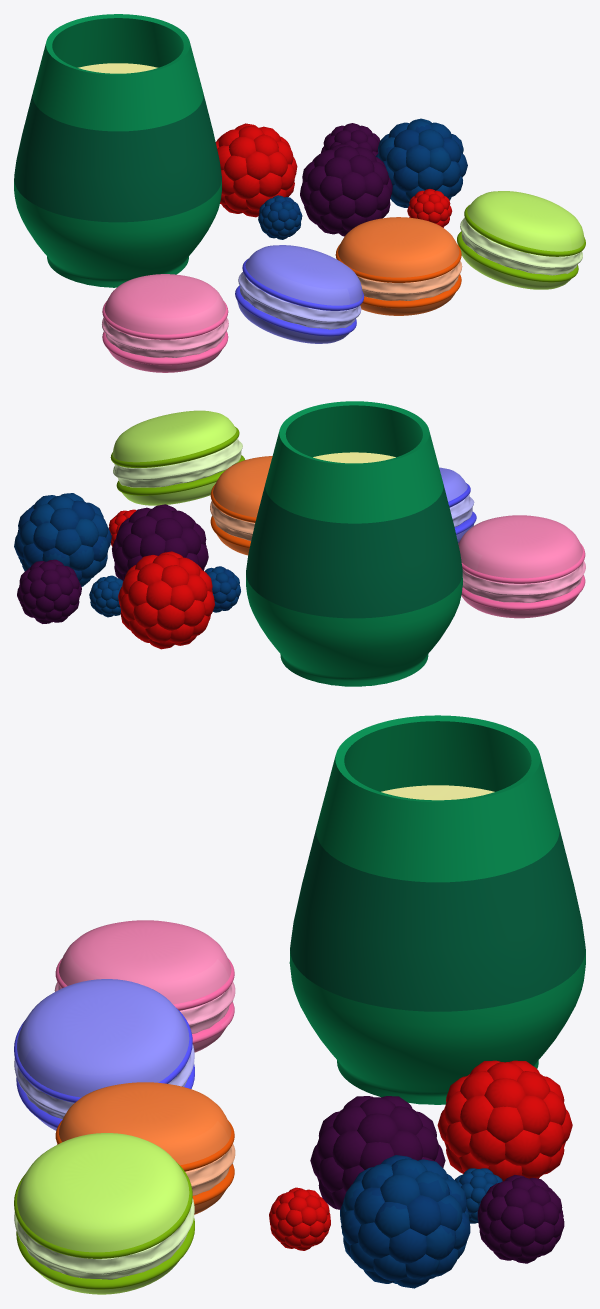
The model's file is Macarons, berries and Glass.fbx.
3 renders of one model, top to bottom at view 1: azimuth 30°, elevation 25°; view 2: azimuth 150°, elevation 25°; view 3: azimuth 270°, elevation 25°, orthographic. The views are drawn at different scales.
Visible parts, largest first — view 1: Glass.002, Glass.003, Glass, Berry 3, Macaron 2, upper uper.001, Macaron 2, upper uper, Berry 1, Berry 6, macaron 1, upper, macaron 3, upper, macaron 1, middle, macaron 3, middle (+18 smaller); view 2: Glass.002, Glass.003, Glass, Berry 1, Macaron 2, upper uper.001, Berry 6, macaron 1, upper, Berry 3, Berry 7, macaron 1, middle, Macaron 2, upper uper, Macaron 2 middle.001 (+12 smaller); view 3: Glass.002, Glass.003, Glass, macaron 1, upper, macaron 3, upper, Berry 6, Berry 1, Macaron 2, upper uper.001, Macaron 2, upper uper, Berry 3, Berry 7, macaron 1, middle (+9 smaller).
Boxes of the visible parts, x1,y1,x2,y2 form: Glass.002: (14,93,221,222); Glass.003: (32,14,203,131); Glass: (14,180,221,287); Berry 3: (300,143,392,236); Macaron 2, upper uper.001: (104,274,225,334); Macaron 2, upper uper: (338,217,459,277); Berry 1: (215,123,297,217); Berry 6: (375,118,467,207); macaron 1, upper: (467,191,584,251); macaron 3, upper: (245,245,362,305); macaron 1, middle: (460,217,582,275); macaron 3, middle: (238,272,361,329); Glass.002: (246,483,462,618); Glass.003: (265,401,443,523); Glass: (246,575,462,686); Berry 1: (118,551,214,649); Macaron 2, upper uper.001: (458,515,582,578); Berry 6: (14,493,111,586); macaron 1, upper: (112,410,236,462); Berry 3: (112,504,208,580); Berry 7: (17,559,81,623); macaron 1, middle: (113,438,242,487); Macaron 2, upper uper: (213,456,272,517); Macaron 2 middle.001: (462,561,585,602); Glass.002: (290,827,585,1011); Glass.003: (316,715,559,882); Glass: (289,949,585,1104); macaron 1, upper: (17,1133,189,1252); macaron 3, upper: (17,979,189,1097); Berry 6: (340,1155,470,1288); Berry 1: (437,1060,572,1181); Macaron 2, upper uper.001: (59,920,231,1004); Macaron 2, upper uper: (59,1082,231,1165); Berry 3: (310,1096,445,1209); Berry 7: (477,1175,564,1263); macaron 1, middle: (14,1198,194,1279).
Bounding box in the file's own units: 168 × 80.2 × 129.
1 material, 1 textured.
